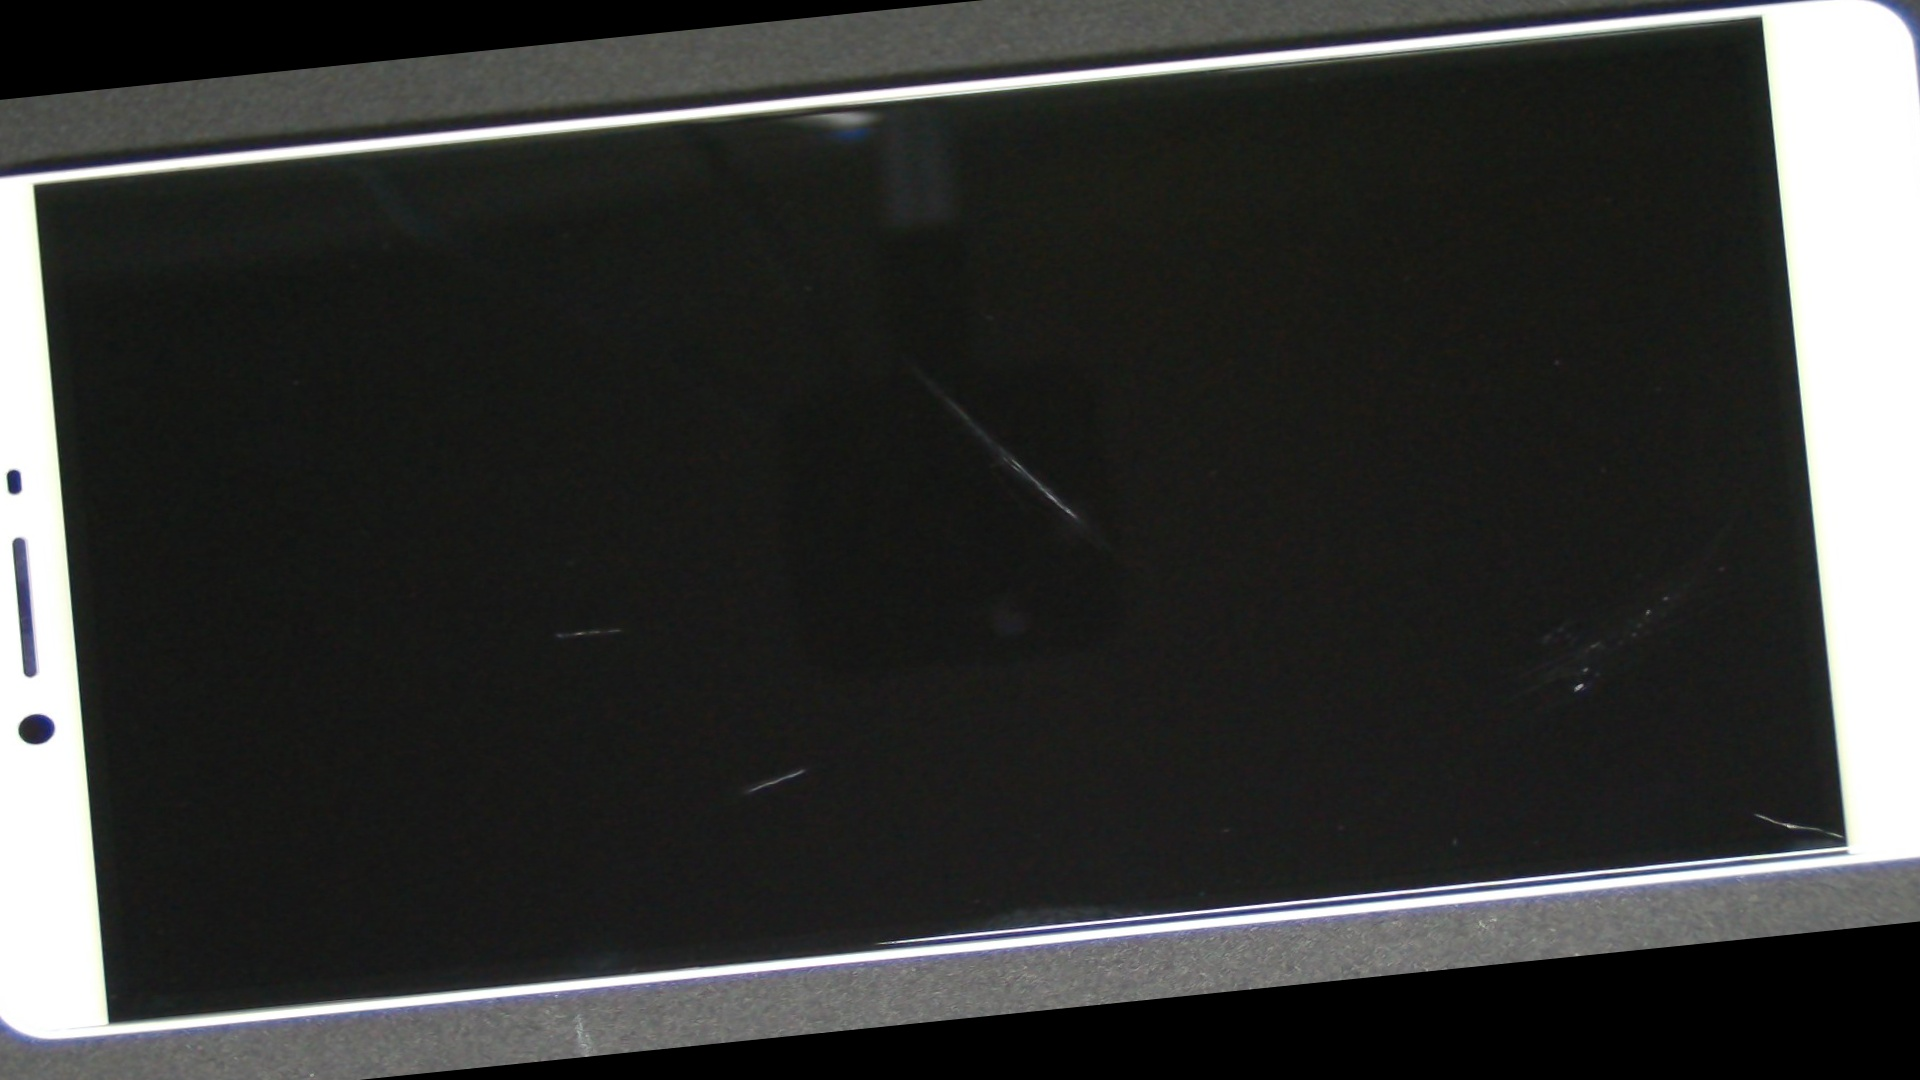oil: (789, 339, 1920, 1030), (311, 351, 1280, 1079), (386, 148, 1515, 653), (187, 307, 923, 960)
